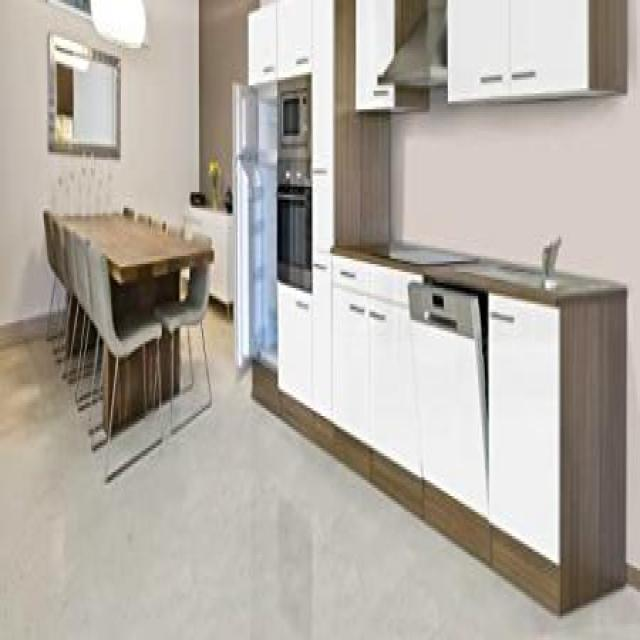dishwasher: (407, 267, 485, 520)
